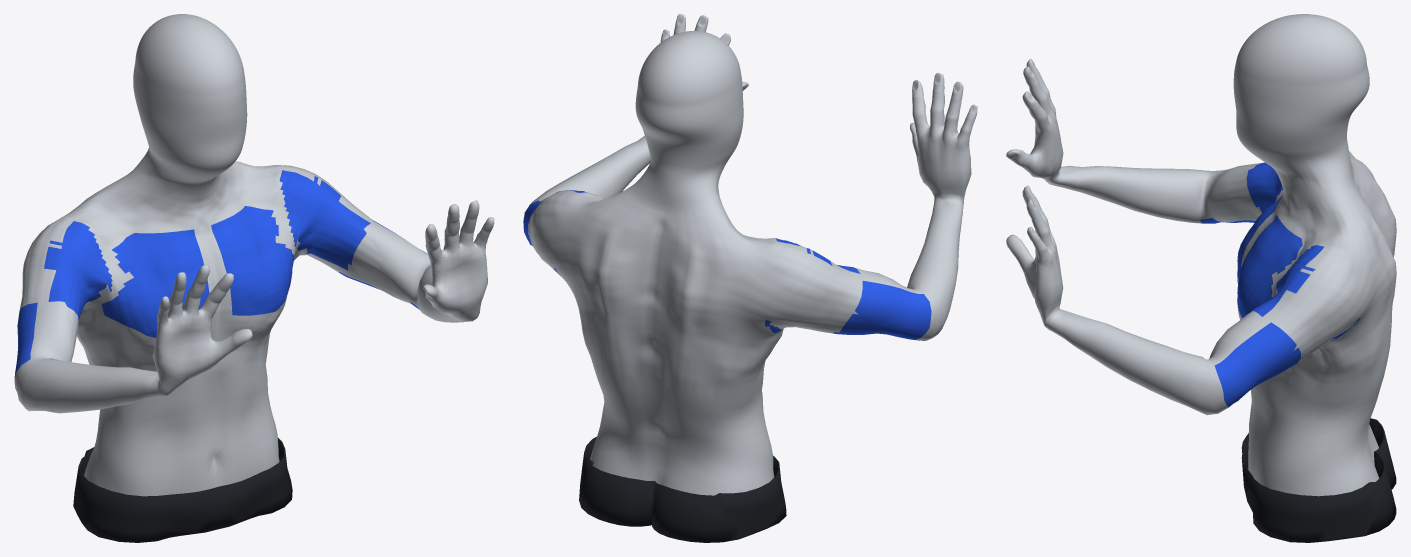
File: workout-push.glb
3 renders of one model, left to right at view 1: azimuth 30°, elevation 25°; view 2: azimuth 150°, elevation 25°; view 3: azimuth 270°, elevation 25°, orthographic. The views are drawn at different scales.
Parts seen in each view (by area): view 1: SM_Athlete_Body; view 2: SM_Athlete_Body; view 3: SM_Athlete_Body.
Part boxes in pixels (<box>): SM_Athlete_Body: <box>14,14,494,542</box>; SM_Athlete_Body: <box>523,14,977,542</box>; SM_Athlete_Body: <box>1006,14,1396,542</box>.
Size of the model in its own units: 1.88 by 2 by 1.48.
